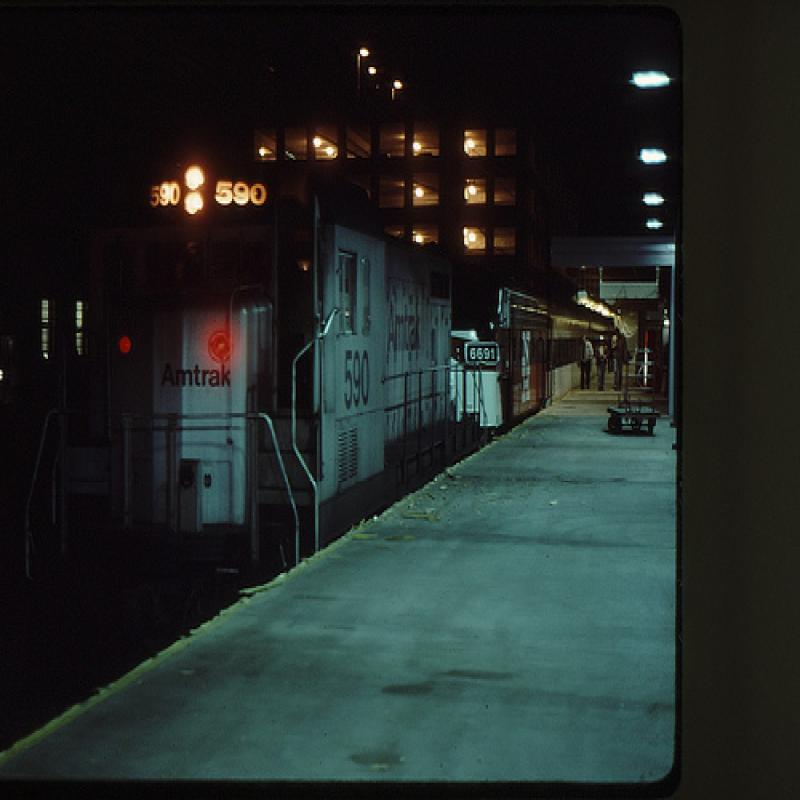train: (24, 152, 621, 585)
